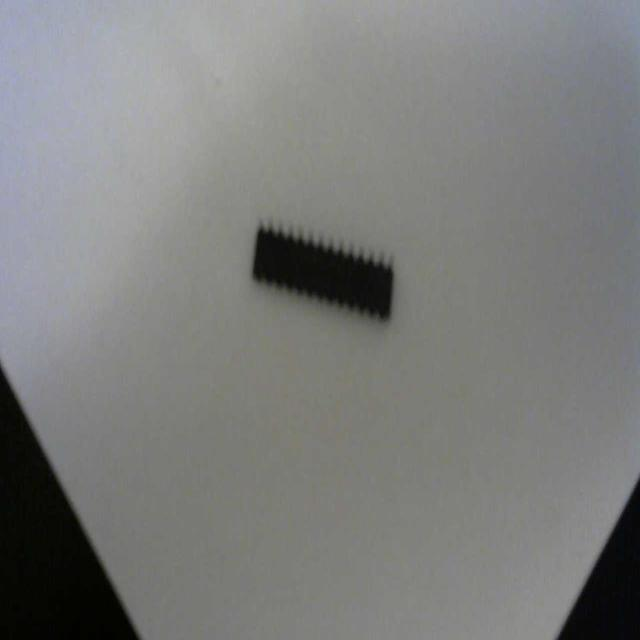atmega: (249, 215, 397, 328)
